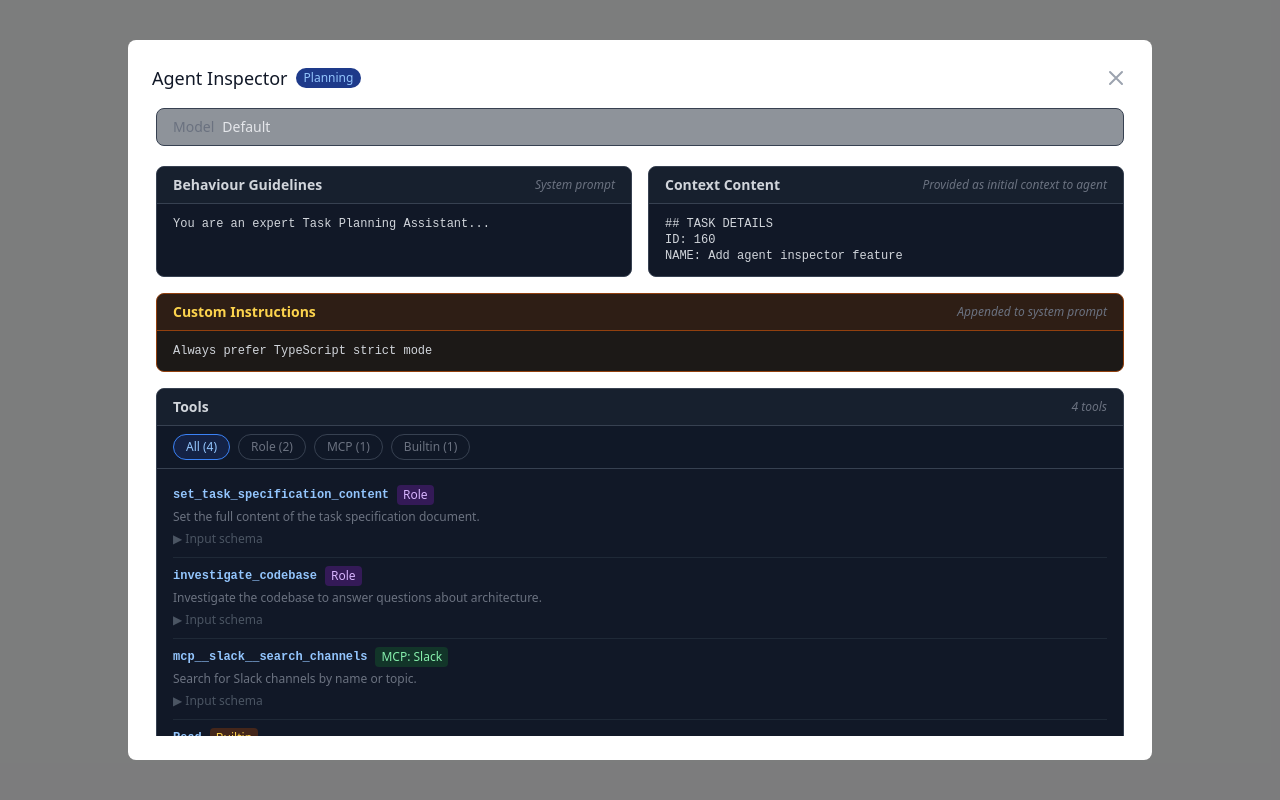
AgentInspectorModal › builtin tools show no schema toggle
Click the button "Builtin (1)". click: (431, 447)
box: x1=391 y1=434 x2=470 y2=460
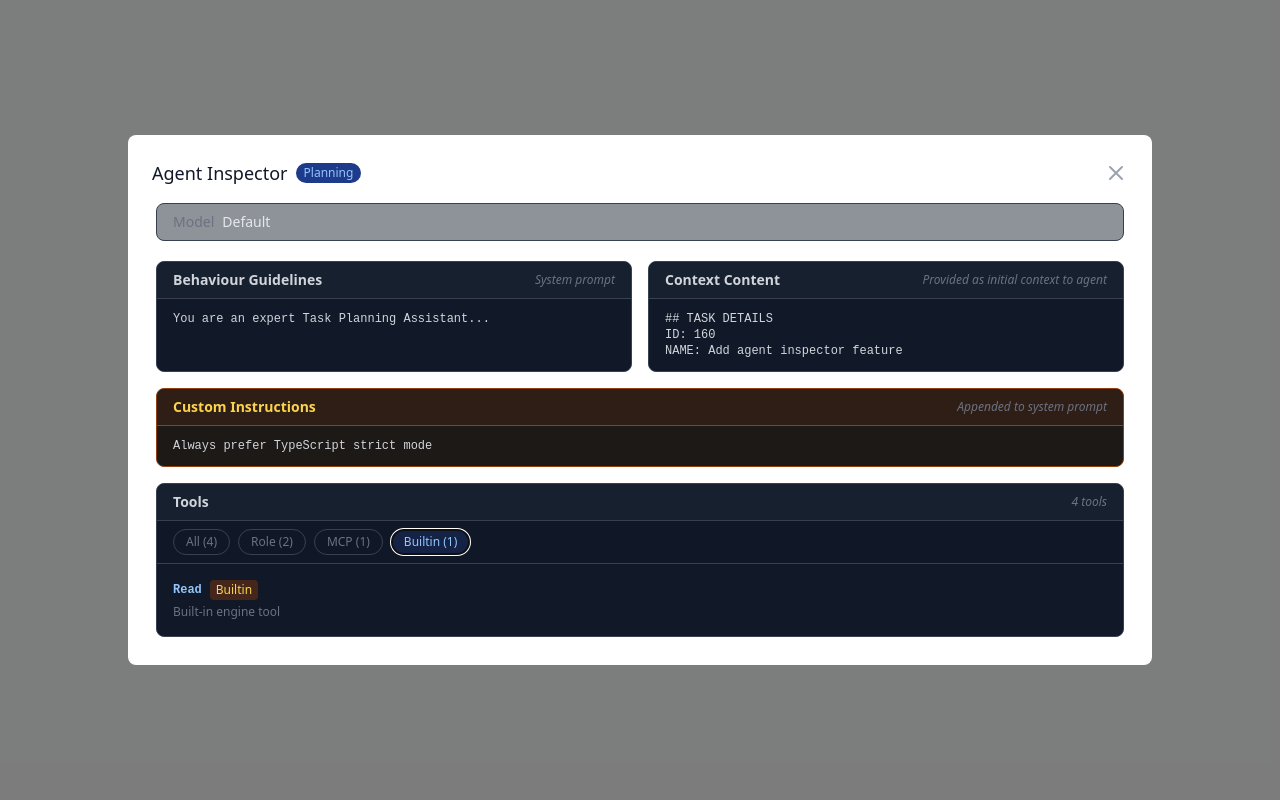
Expected: the text "Read" is shown, x1=173 y1=582 x2=202 y2=598
Result: the button "Input schema" is gone
Result: the text "Built-in engine tool" is shown at x1=173 y1=603 x2=280 y2=620
